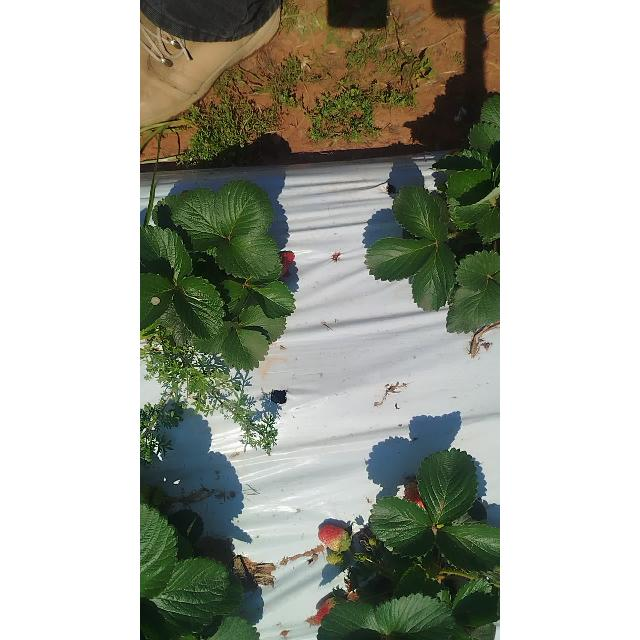semi-maduro: (316, 524, 348, 552), (316, 596, 334, 622), (404, 481, 422, 501)
